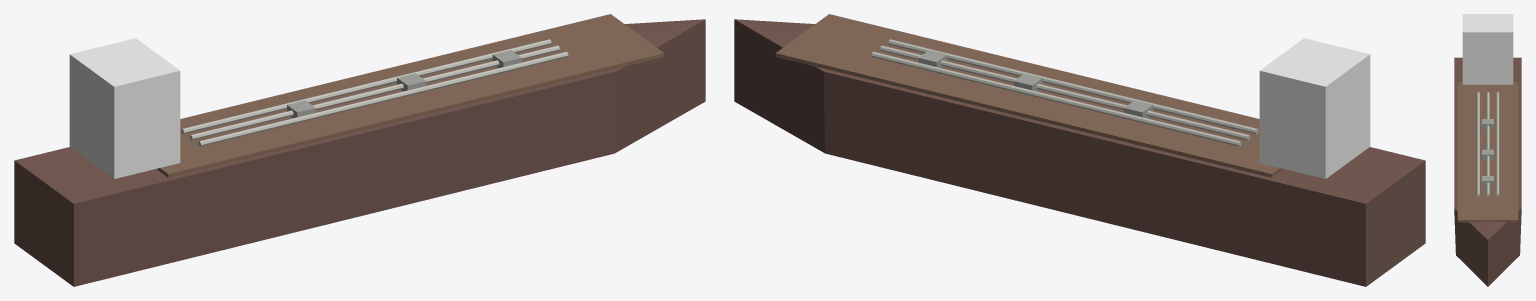
The model's file is tanker.glb.
The picture shows the model from 3 angles, left to right: view 1: azimuth 30°, elevation 25°; view 2: azimuth 150°, elevation 25°; view 3: azimuth 270°, elevation 25°; orthographic projection. The views are drawn at different scales.
Visible parts, largest first — view 1: hull, deck, house, pipe0, pipe2, pipe1; view 2: hull, deck, house, pipe2, pipe0, pipe1; view 3: deck, hull, house, pipe0, pipe2, pipe1, man1, man0, man2.
Part boxes in pixels (left/top/right/bottom): hull: left=14, top=19, right=705, bottom=286; deck: left=156, top=14, right=664, bottom=177; house: left=69, top=38, right=180, bottom=178; pipe0: left=198, top=51, right=568, bottom=146; pipe2: left=181, top=39, right=551, bottom=134; pipe1: left=189, top=45, right=559, bottom=140; hull: left=734, top=19, right=1425, bottom=286; deck: left=775, top=14, right=1283, bottom=177; house: left=1259, top=38, right=1370, bottom=178; pipe2: left=871, top=51, right=1241, bottom=146; pipe0: left=888, top=39, right=1258, bottom=134; pipe1: left=880, top=45, right=1250, bottom=140; deck: left=1457, top=82, right=1518, bottom=222; hull: left=1454, top=57, right=1521, bottom=286; house: left=1462, top=14, right=1513, bottom=84; pipe0: left=1476, top=92, right=1479, bottom=196; pipe2: left=1496, top=92, right=1499, bottom=196; pipe1: left=1486, top=92, right=1489, bottom=196; man1: left=1482, top=149, right=1493, bottom=159; man0: left=1482, top=119, right=1493, bottom=129; man2: left=1482, top=176, right=1493, bottom=186.
Size of the model in its own units: 90 by 23.8 by 14.
